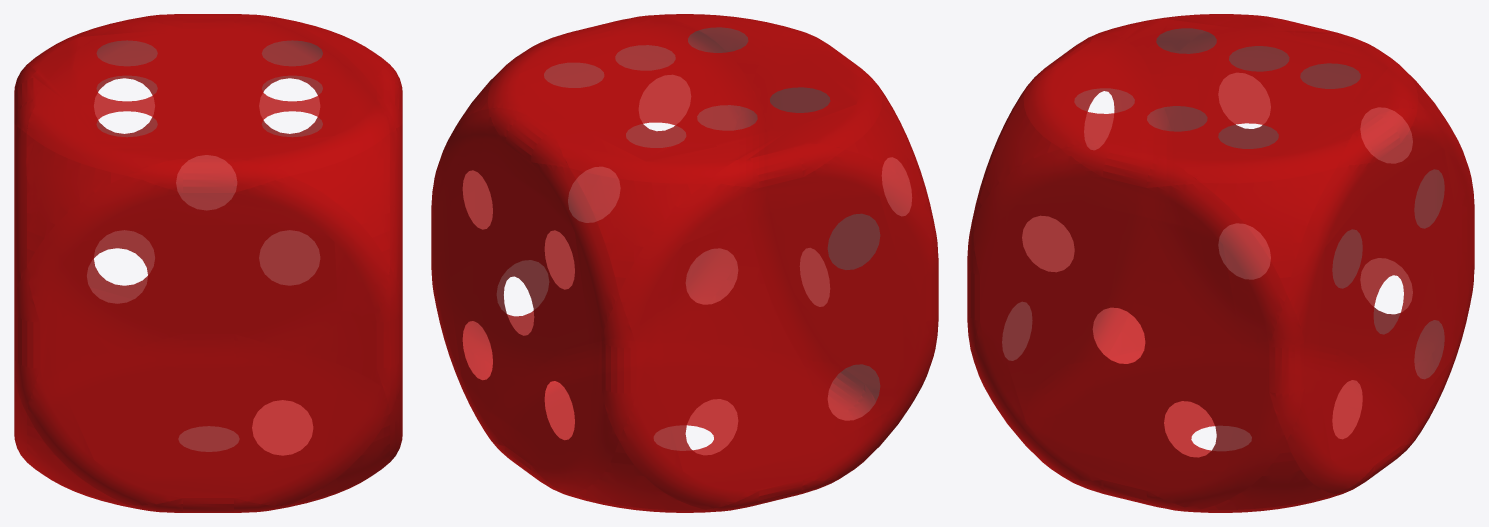
File: d6_pipped_rounded_lowpoly.fbx
The picture shows the model from 3 angles, left to right: view 1: azimuth 30°, elevation 25°; view 2: azimuth 150°, elevation 25°; view 3: azimuth 270°, elevation 25°; orthographic projection.
Visible parts, largest first — view 1: 6_Sided_Ro; view 2: 6_Sided_Ro; view 3: 6_Sided_Ro.
Boxes of the visible parts, x1=… form: 6_Sided_Ro: x1=14, y1=14, x2=402, y2=512; 6_Sided_Ro: x1=431, y1=14, x2=938, y2=512; 6_Sided_Ro: x1=967, y1=14, x2=1474, y2=512.
Bounding box in the file's own units: 10.98 × 8.34 × 10.98.
